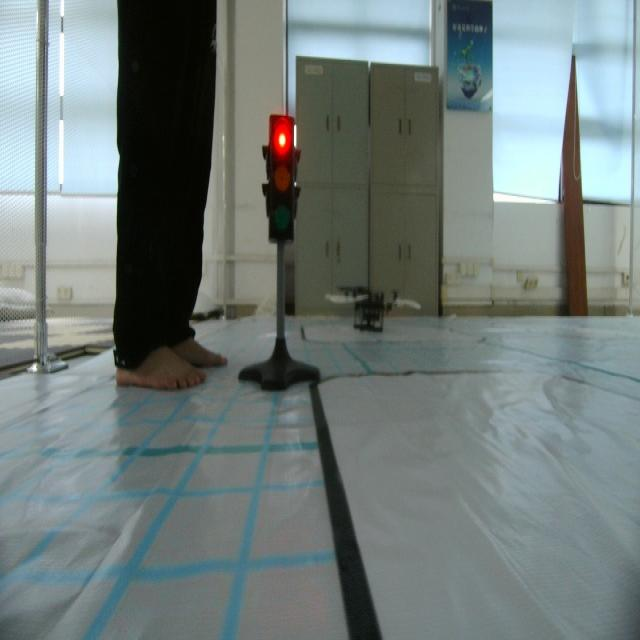red: (261, 110, 303, 250)
